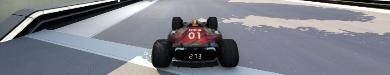Car: (150, 16, 239, 67)
curve: (0, 0, 389, 74)
